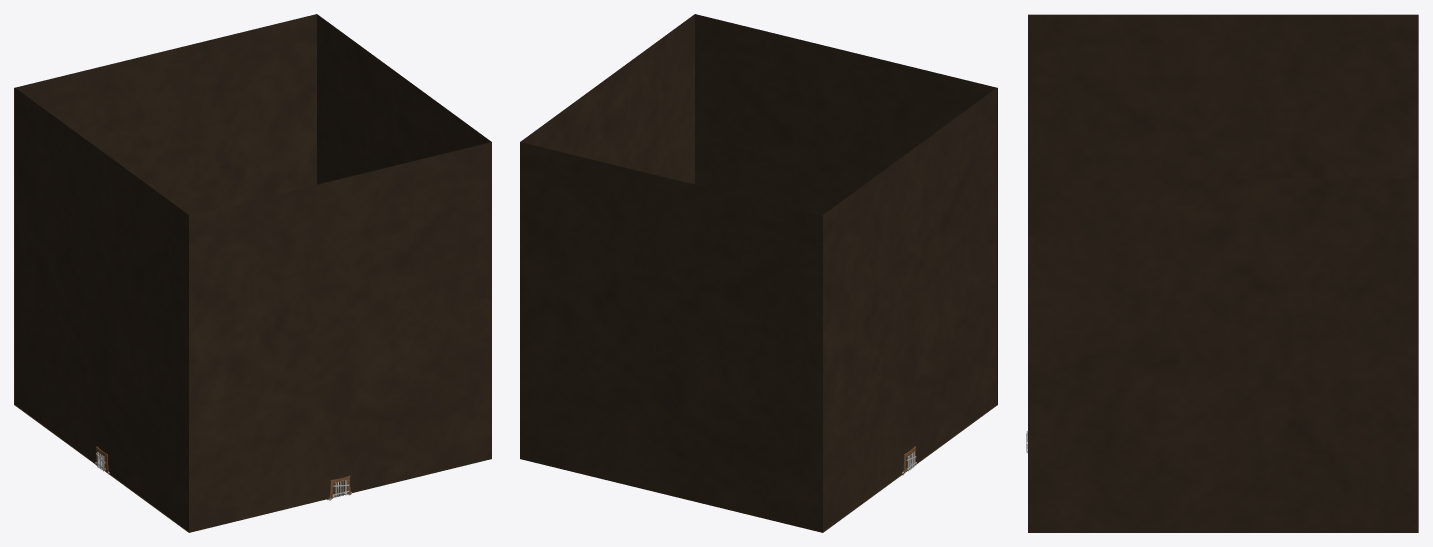
Rendered from Room008.fbx.
3 renders of one model, left to right at view 1: azimuth 30°, elevation 25°; view 2: azimuth 150°, elevation 25°; view 3: azimuth 270°, elevation 25°, orthographic. The views are drawn at different scales.
Parts seen in each view (by area): view 1: 4ParedN, 3ParedE, 2ParedSinPuertaS, 1ParedSinPuertaW, 4Pared.002N, 4Pared.001N, 3Pared.001E, 3Pared.002E; view 2: 2ParedSinPuertaS, 3ParedE, 4ParedN, 1ParedSinPuertaW, 3Pared.002E, 3Pared.001E; view 3: 1ParedSinPuertaW, 3ParedE.
Part boxes in pixels (box(x1,y1,x2,y2)): 4ParedN: box(189, 142, 491, 516); 3ParedE: box(15, 88, 189, 515); 2ParedSinPuertaS: box(14, 14, 316, 404); 1ParedSinPuertaW: box(317, 14, 491, 184); 4Pared.002N: box(350, 443, 491, 493); 4Pared.001N: box(189, 482, 330, 532); 3Pared.001E: box(15, 389, 96, 462); 3Pared.002E: box(108, 457, 188, 531); 2ParedSinPuertaS: box(520, 142, 822, 532); 3ParedE: box(822, 88, 996, 515); 4ParedN: box(695, 14, 997, 388); 1ParedSinPuertaW: box(520, 14, 694, 184); 3Pared.002E: box(915, 389, 996, 462); 3Pared.001E: box(823, 457, 903, 531); 1ParedSinPuertaW: box(1028, 179, 1418, 532); 3ParedE: box(1028, 14, 1418, 178).
Bounding box in the file's own units: 9646 × 9693 × 9646.
